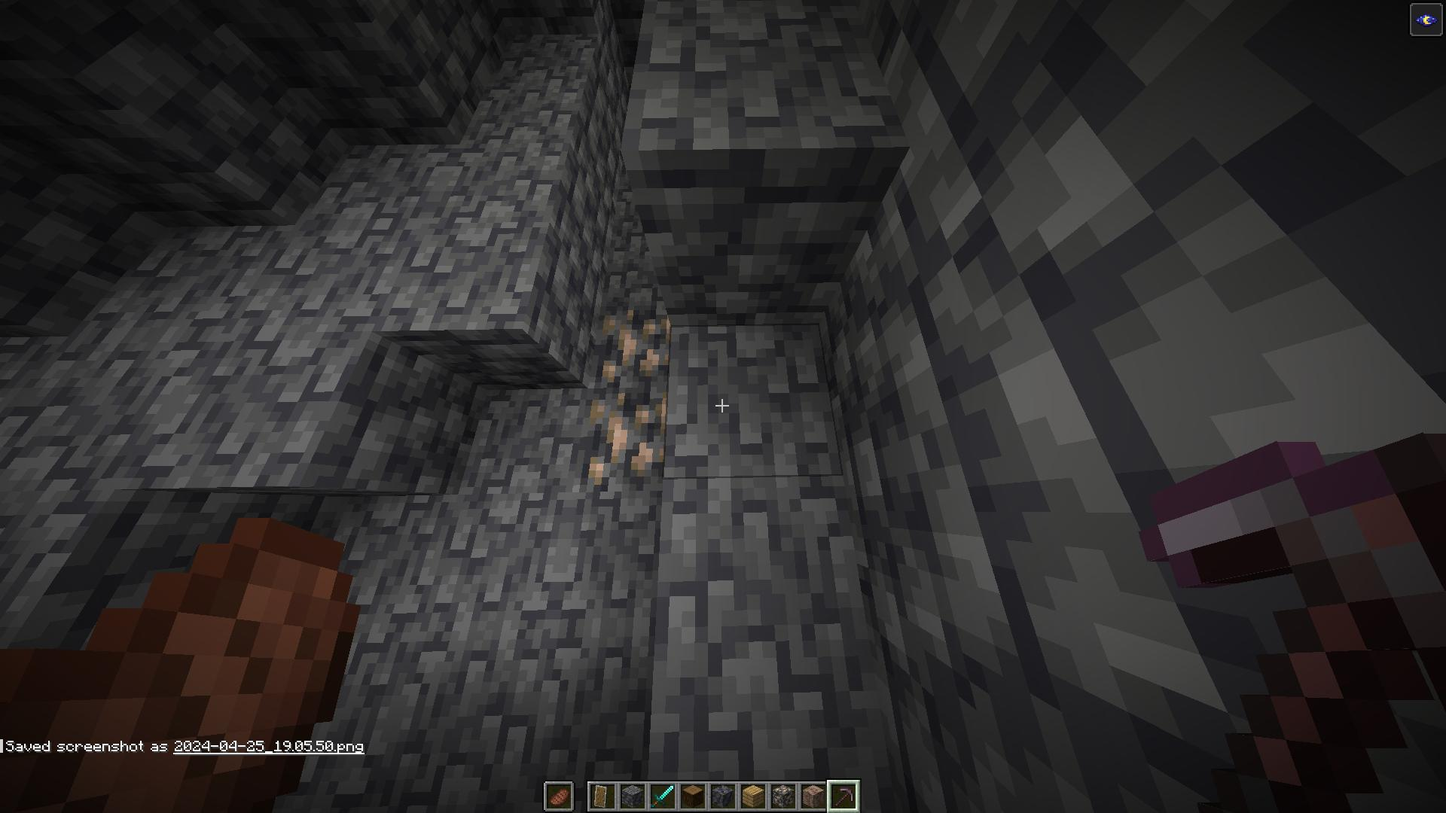iron ore: (583, 388, 669, 494), (596, 308, 674, 391)
